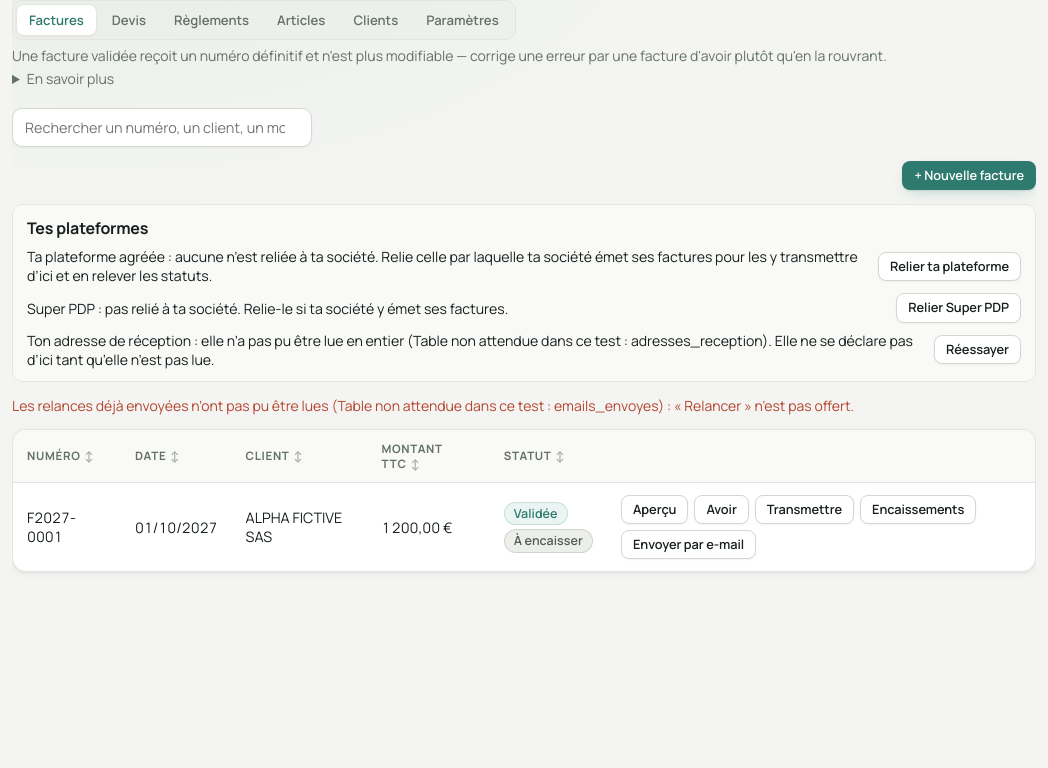
Articles dans l’onglet Factures — qui est le client › au client : les accès ne sont pas lus, rien n’est dit « par le client »
expect the text "F2027-0001" is shown: met, box [27, 508, 76, 546]
Click the tab "Articles": point(301, 20) [264, 4, 338, 36]
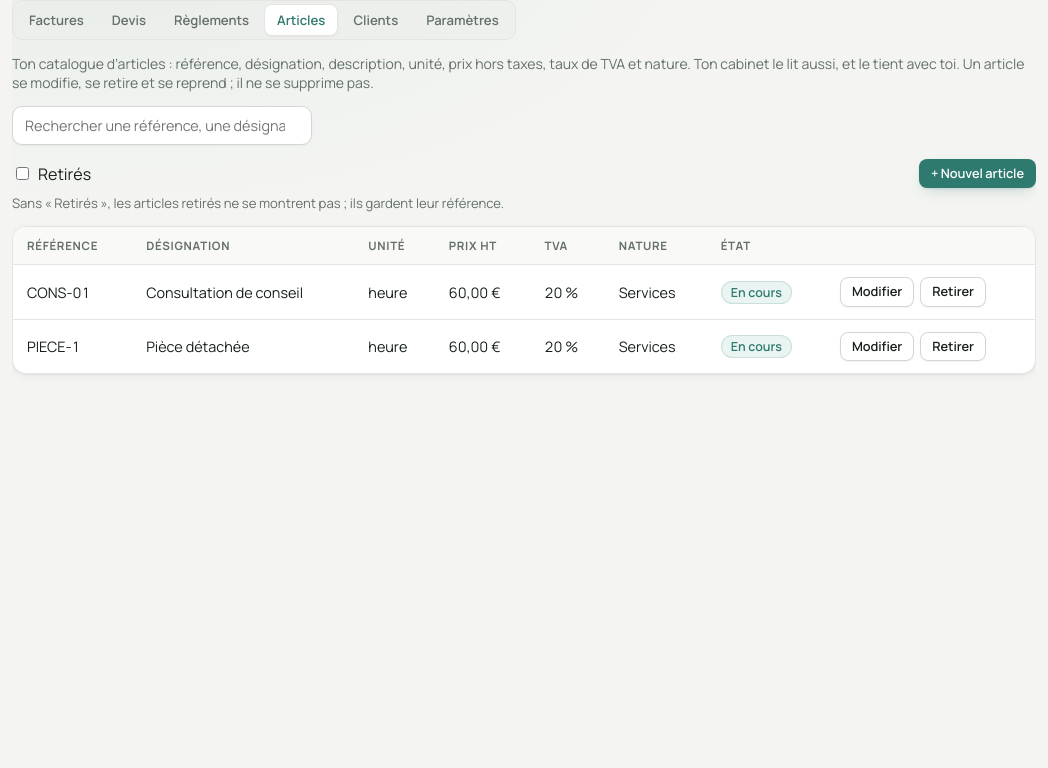
expect the table named "Articles" is shown: met, box [13, 227, 1035, 373]
